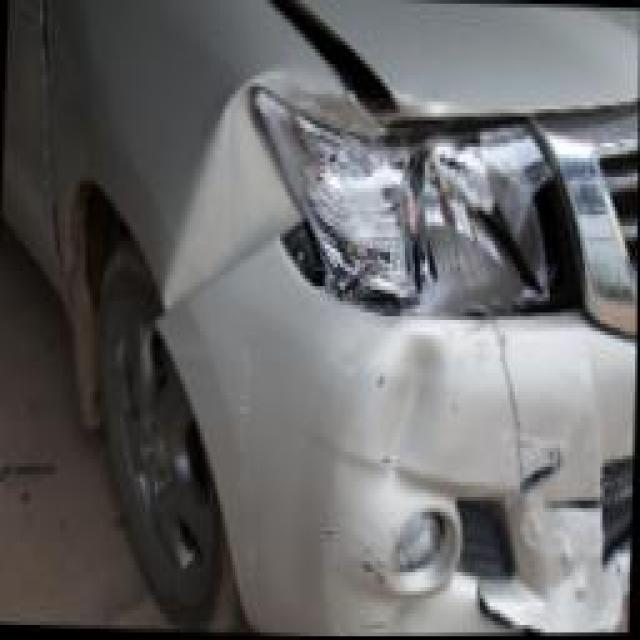Bonnet: (270, 0, 472, 135)
Bumper: (152, 222, 629, 637)
